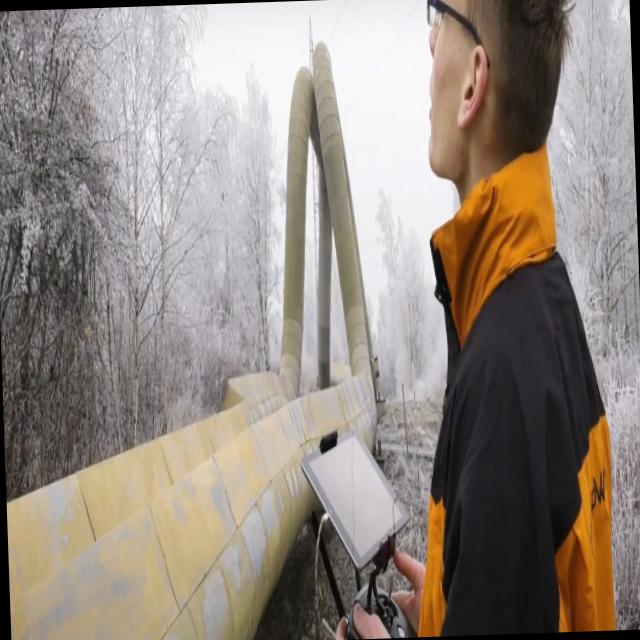gas: (10, 47, 376, 640), (6, 69, 312, 601), (318, 185, 331, 386)
